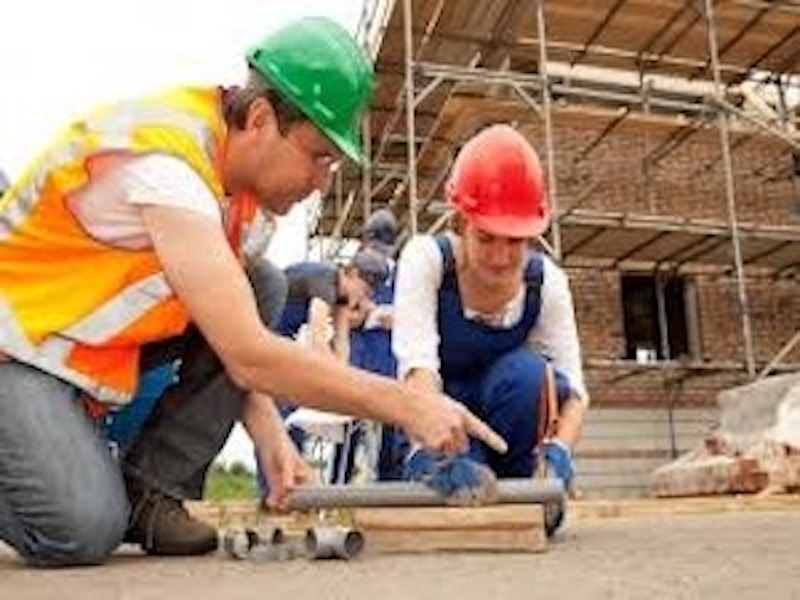safety: (271, 20, 377, 159), (445, 124, 561, 245)
